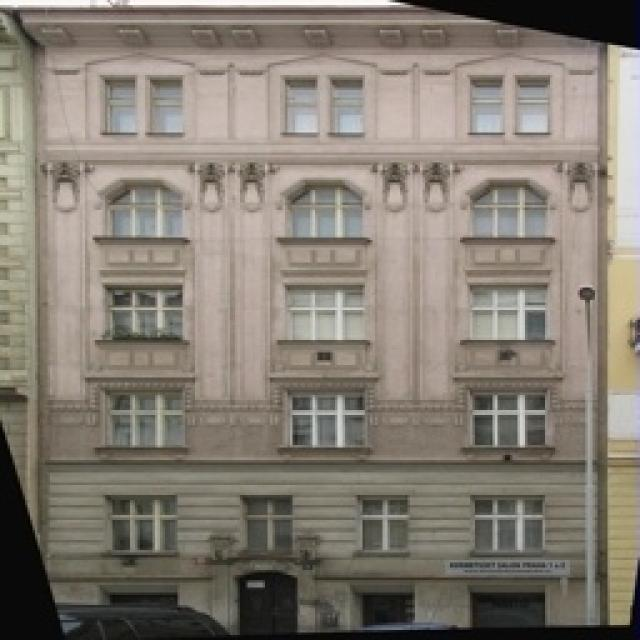building: (25, 0, 603, 630)
